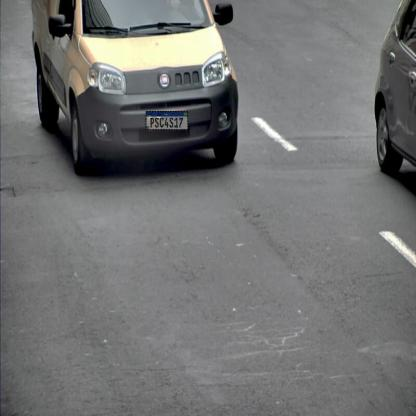PlacaM: (146, 111, 188, 130)
